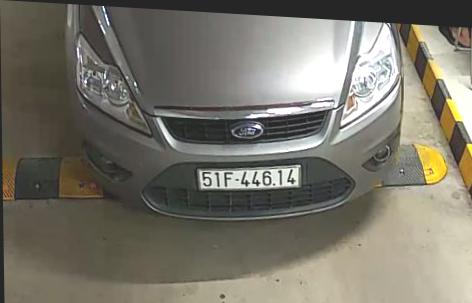License_Plate: (193, 157, 305, 194)
